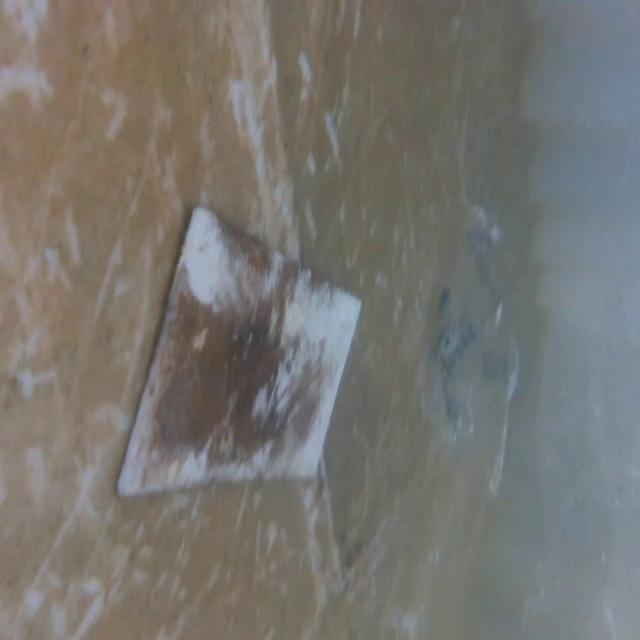metal: (122, 209, 362, 517)
plastic bags: (427, 229, 518, 503)
